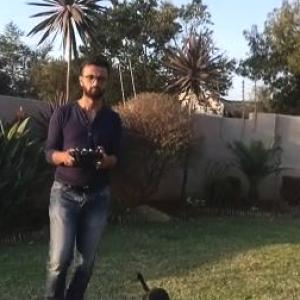follow: (31, 58, 120, 299)
